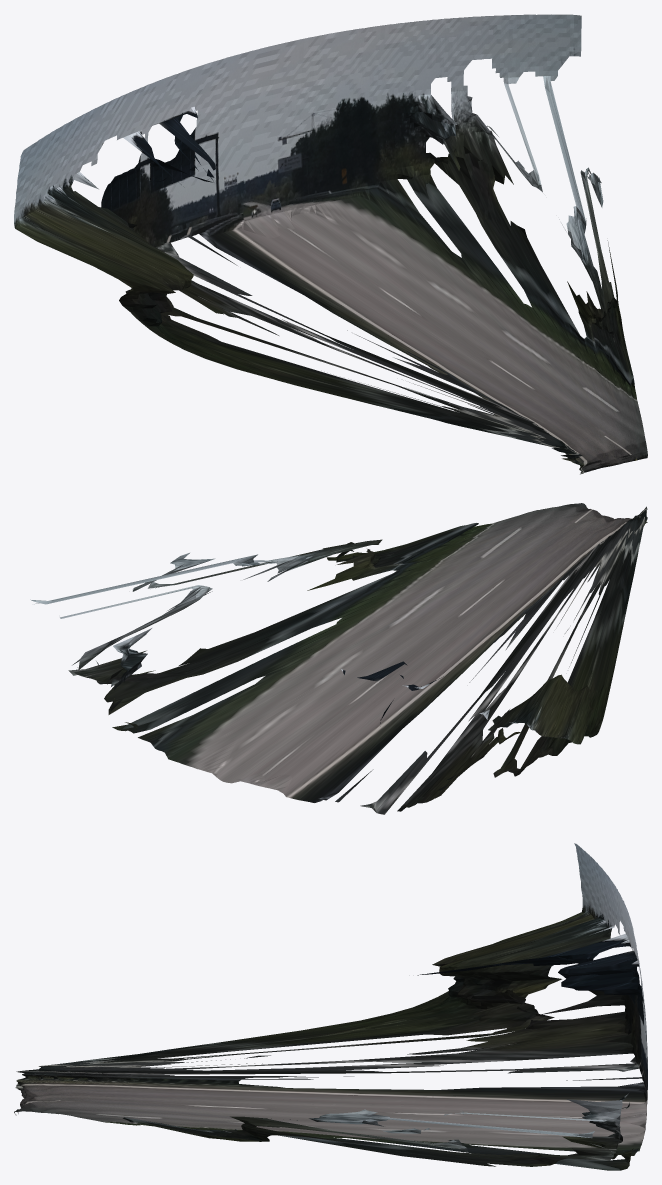
The picture shows the model from 3 angles, top to bottom: view 1: azimuth 30°, elevation 25°; view 2: azimuth 150°, elevation 25°; view 3: azimuth 270°, elevation 25°; orthographic projection. The views are drawn at different scales.
Visible parts, largest first — view 1: defaultobject; view 2: defaultobject; view 3: defaultobject.
Part boxes in pixels (box(x1,y1,x2,y2)): defaultobject: box(14, 14, 647, 474); defaultobject: box(30, 503, 647, 814); defaultobject: box(14, 843, 647, 1170).
Bounding box in the file's own units: 40.97 × 12.47 × 44.57.
1 material, 1 textured.
